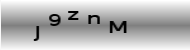9: (47, 13, 62, 27)
J: (32, 25, 40, 42)
M: (109, 19, 128, 35)
n: (86, 14, 102, 25)
z: (67, 10, 79, 21)
